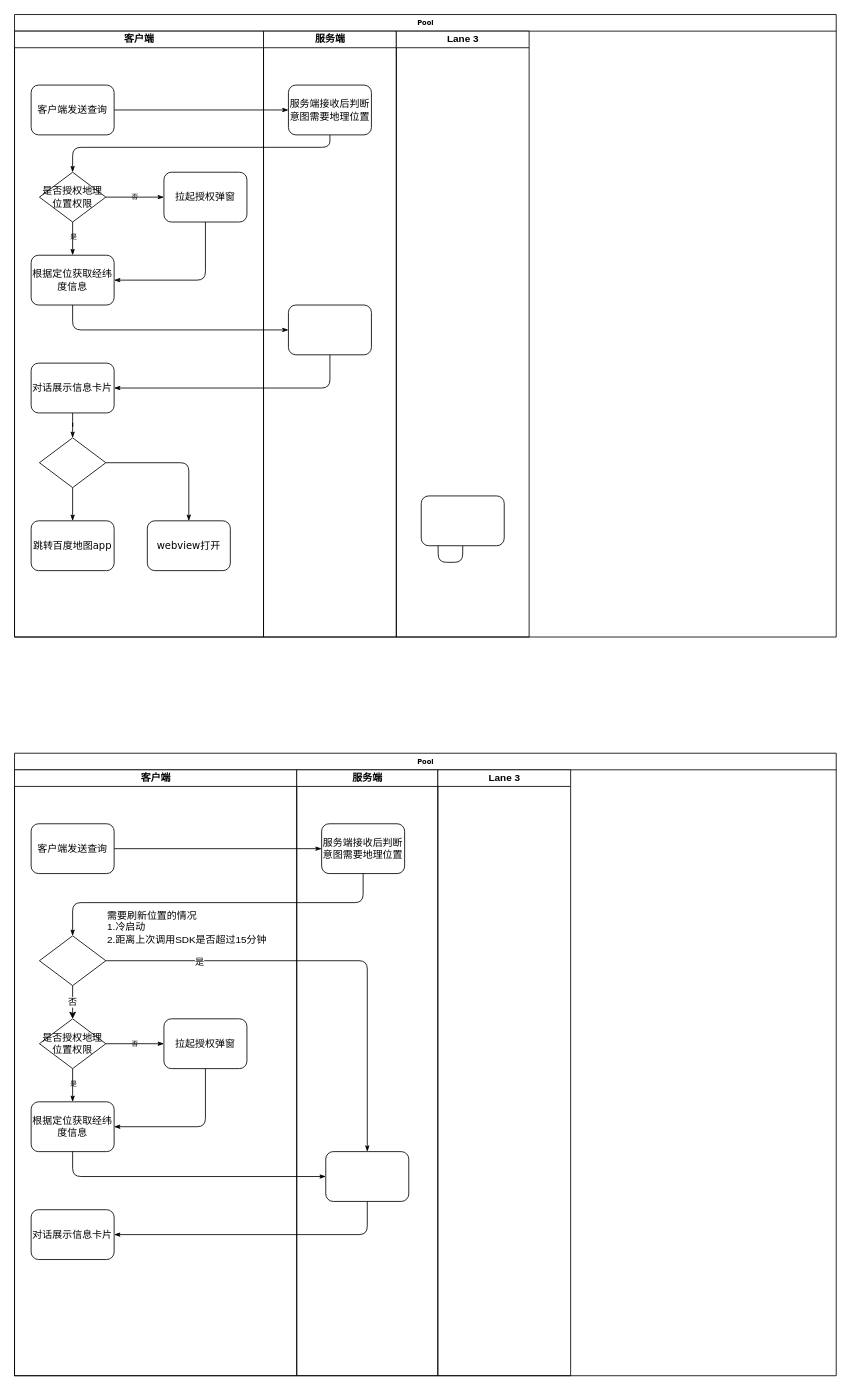
The diagram is 851 pixels wide and 1390 high, and some of its shapes have lost their labels. The shapes that lost their labels are listed below. From the top down, each one's centre as x and y in pixels, then its label:
(x=329, y=329): 使用经纬度获取poi列表
(x=72, y=462): 是否安装百度地图
(x=72, y=960): 位置缓存 是否可用
(x=367, y=1176): 使用经纬度获取天气
